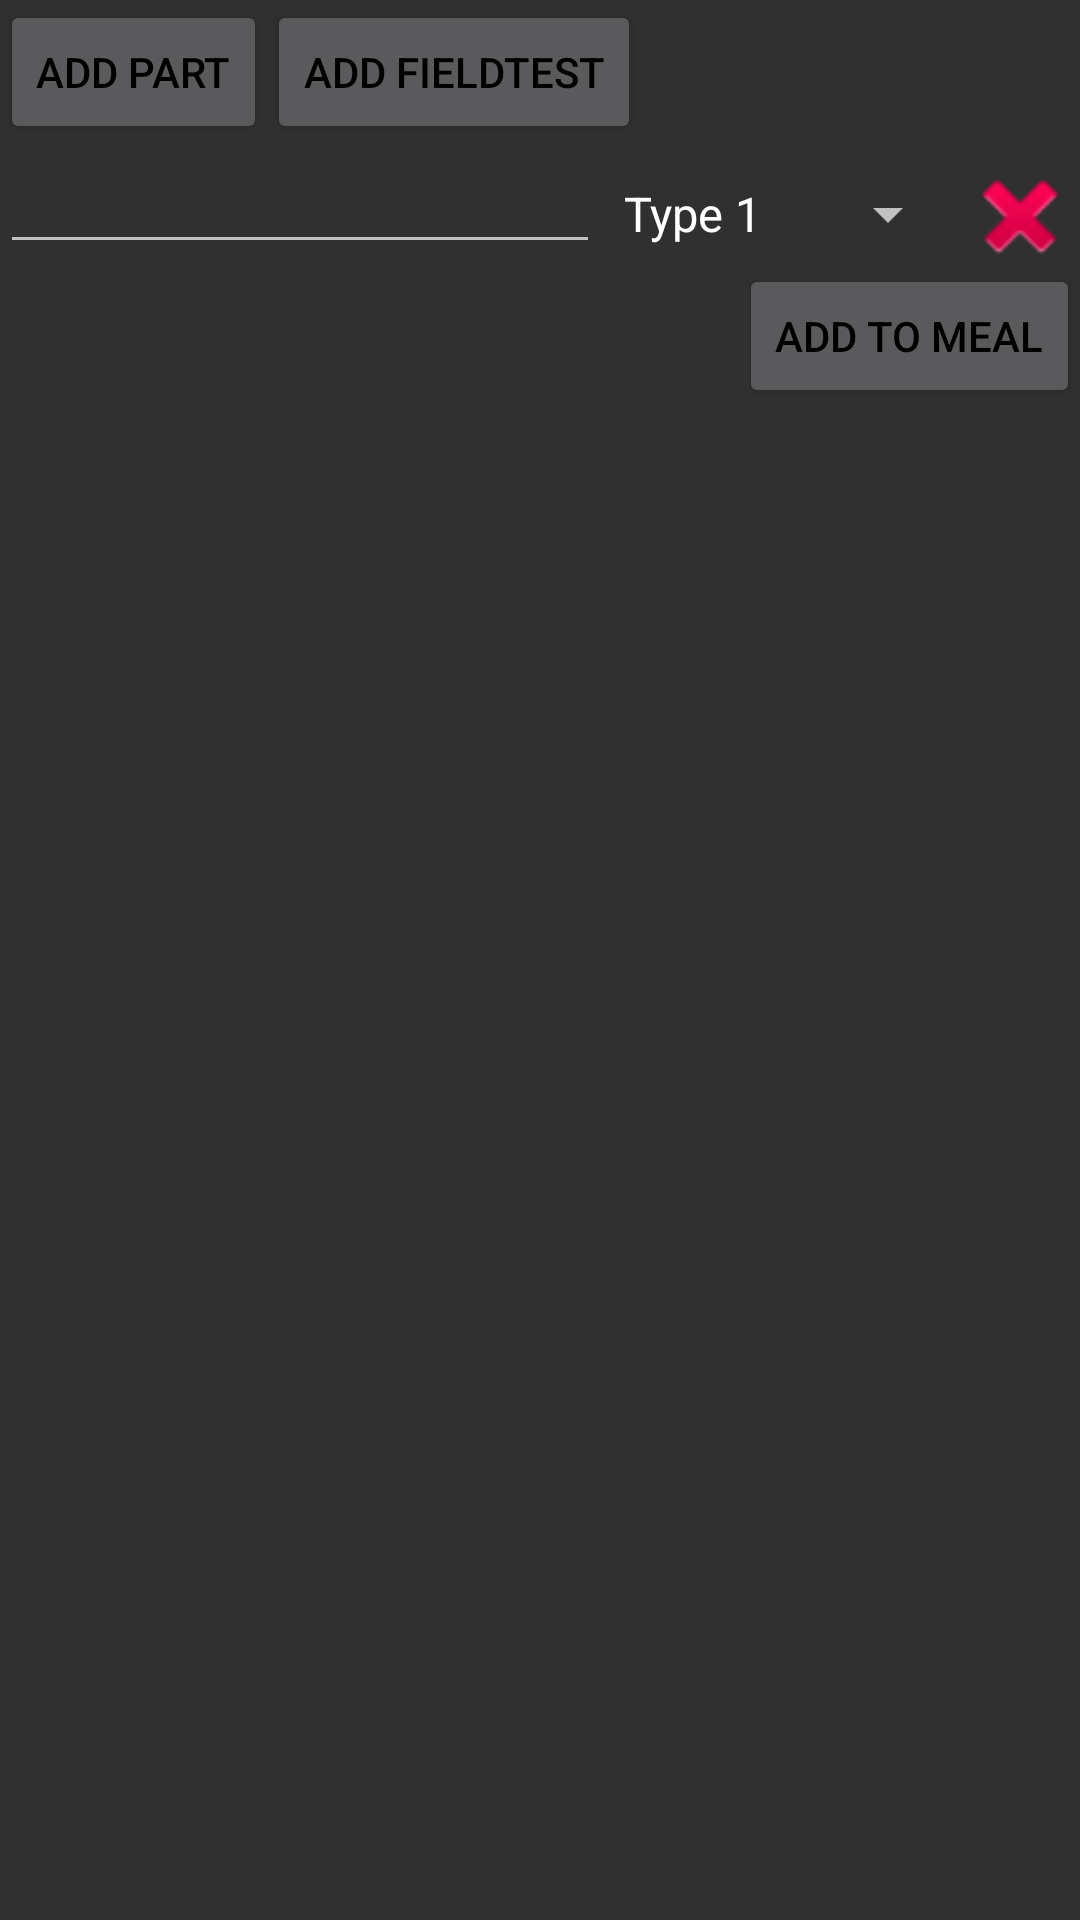

Where to tap for icons on this 1080*1920 app screen, as point (x, y):
delete: point (1020, 217)
